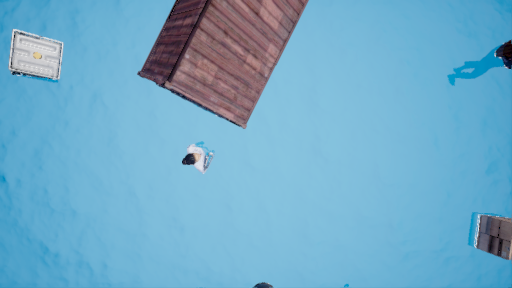person: (176, 141, 230, 186)
